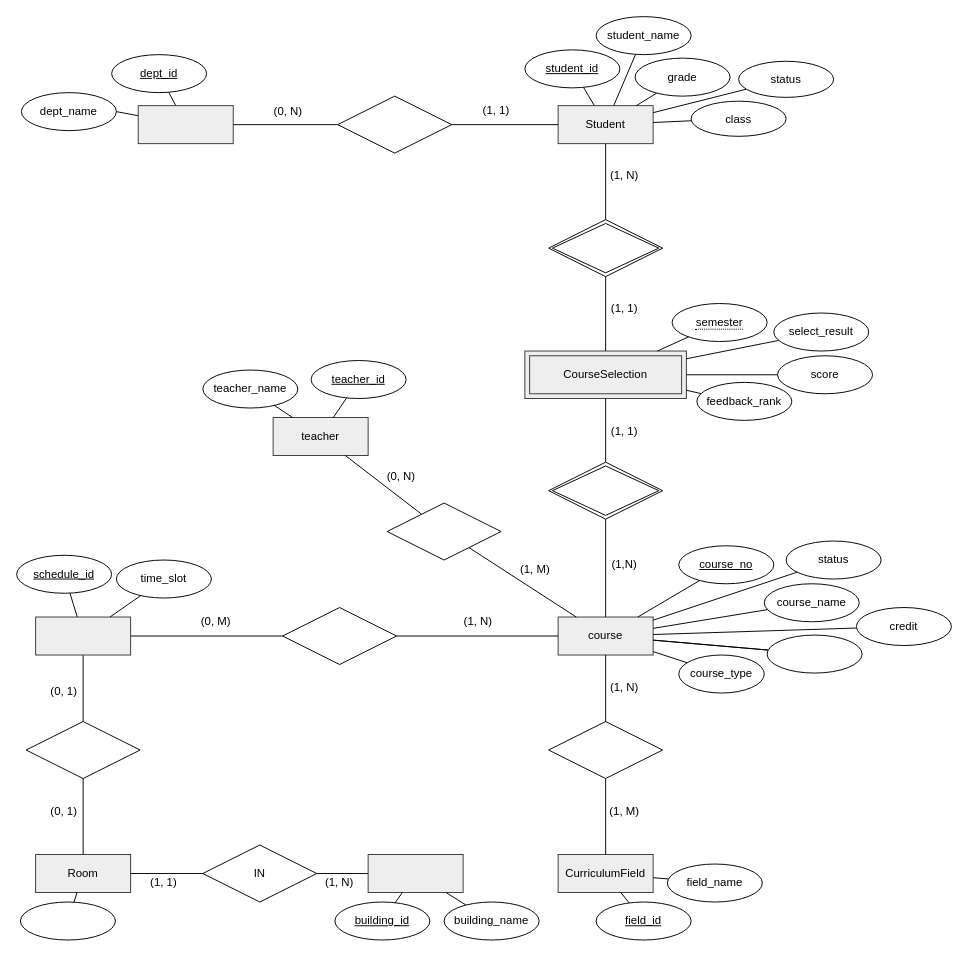
This 968x957 diagram has some shape labels left out. Each missing label, with the centre of its shape:
AT: pixel 82 750
Building: pixel 415 873
CouseSchedule: pixel 83 635
Department: pixel 185 124
FIELD_IN: pixel 605 750
HAS: pixel 394 124
limit: pixel 814 653
room_code: pixel 67 920
TAKE: pixel 605 248
TAKEN: pixel 605 490
TEACH: pixel 443 531
TIME: pixel 339 636
